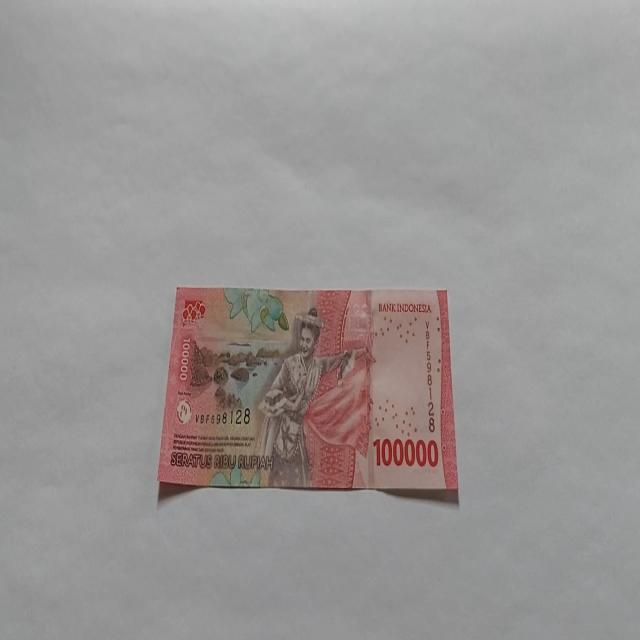seratus ribu rupiah: (156, 285, 458, 497), (253, 306, 353, 487)
